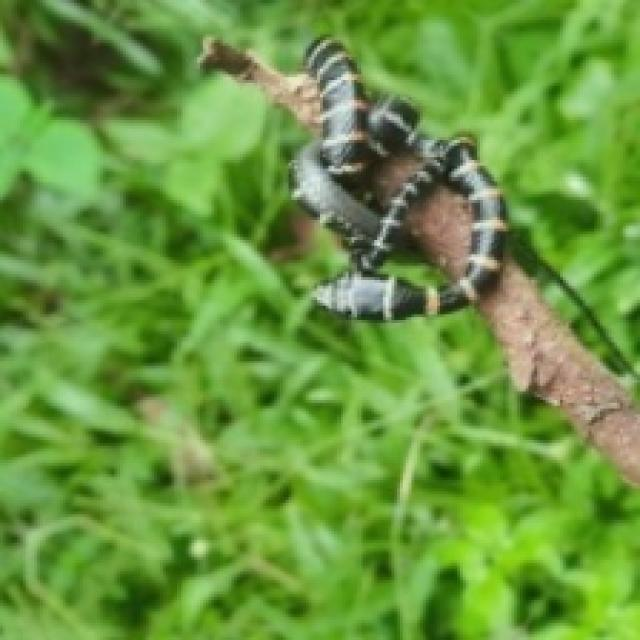paradise tree snake: (283, 37, 503, 303)
